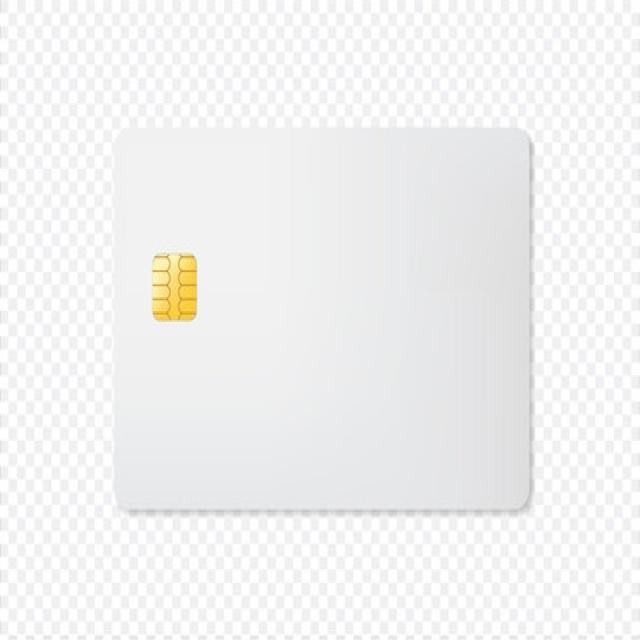payment_card: (110, 124, 534, 513)
